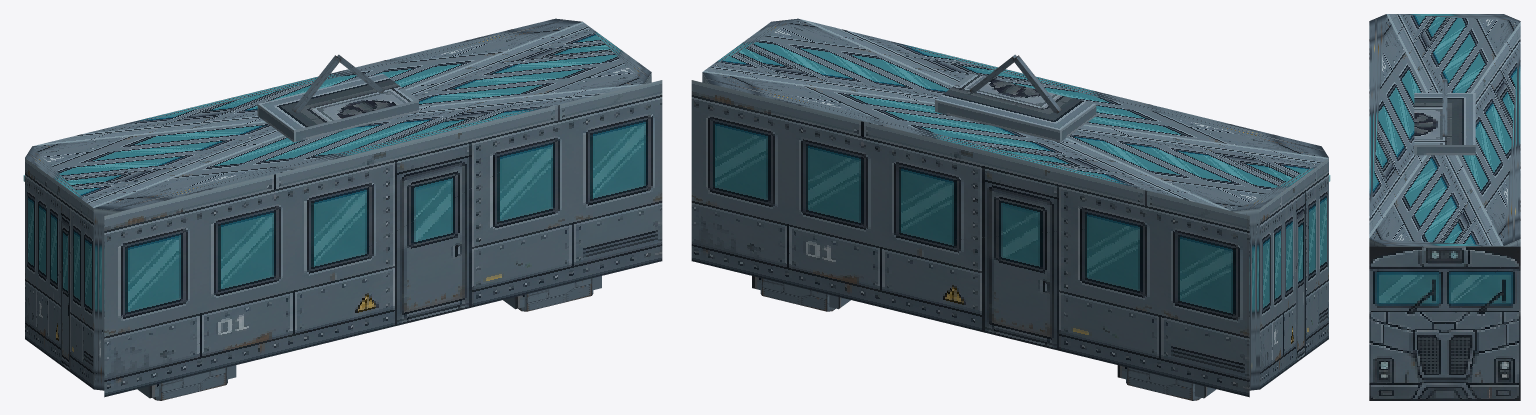
File: train_cab.glb
The picture shows the model from 3 angles, left to right: view 1: azimuth 30°, elevation 25°; view 2: azimuth 150°, elevation 25°; view 3: azimuth 270°, elevation 25°; orthographic projection. The views are drawn at different scales.
Parts seen in each view (by area): view 1: train_cab; view 2: train_cab; view 3: train_cab.
Part boxes in pixels (x1=…): train_cab: x1=23, y1=18, x2=662, y2=400; train_cab: x1=691, y1=18, x2=1330, y2=400; train_cab: x1=1369, y1=14, x2=1520, y2=400.
Bounding box in the file's own units: 5.81 × 2.63 × 1.62.
3 materials, 2 textured.
